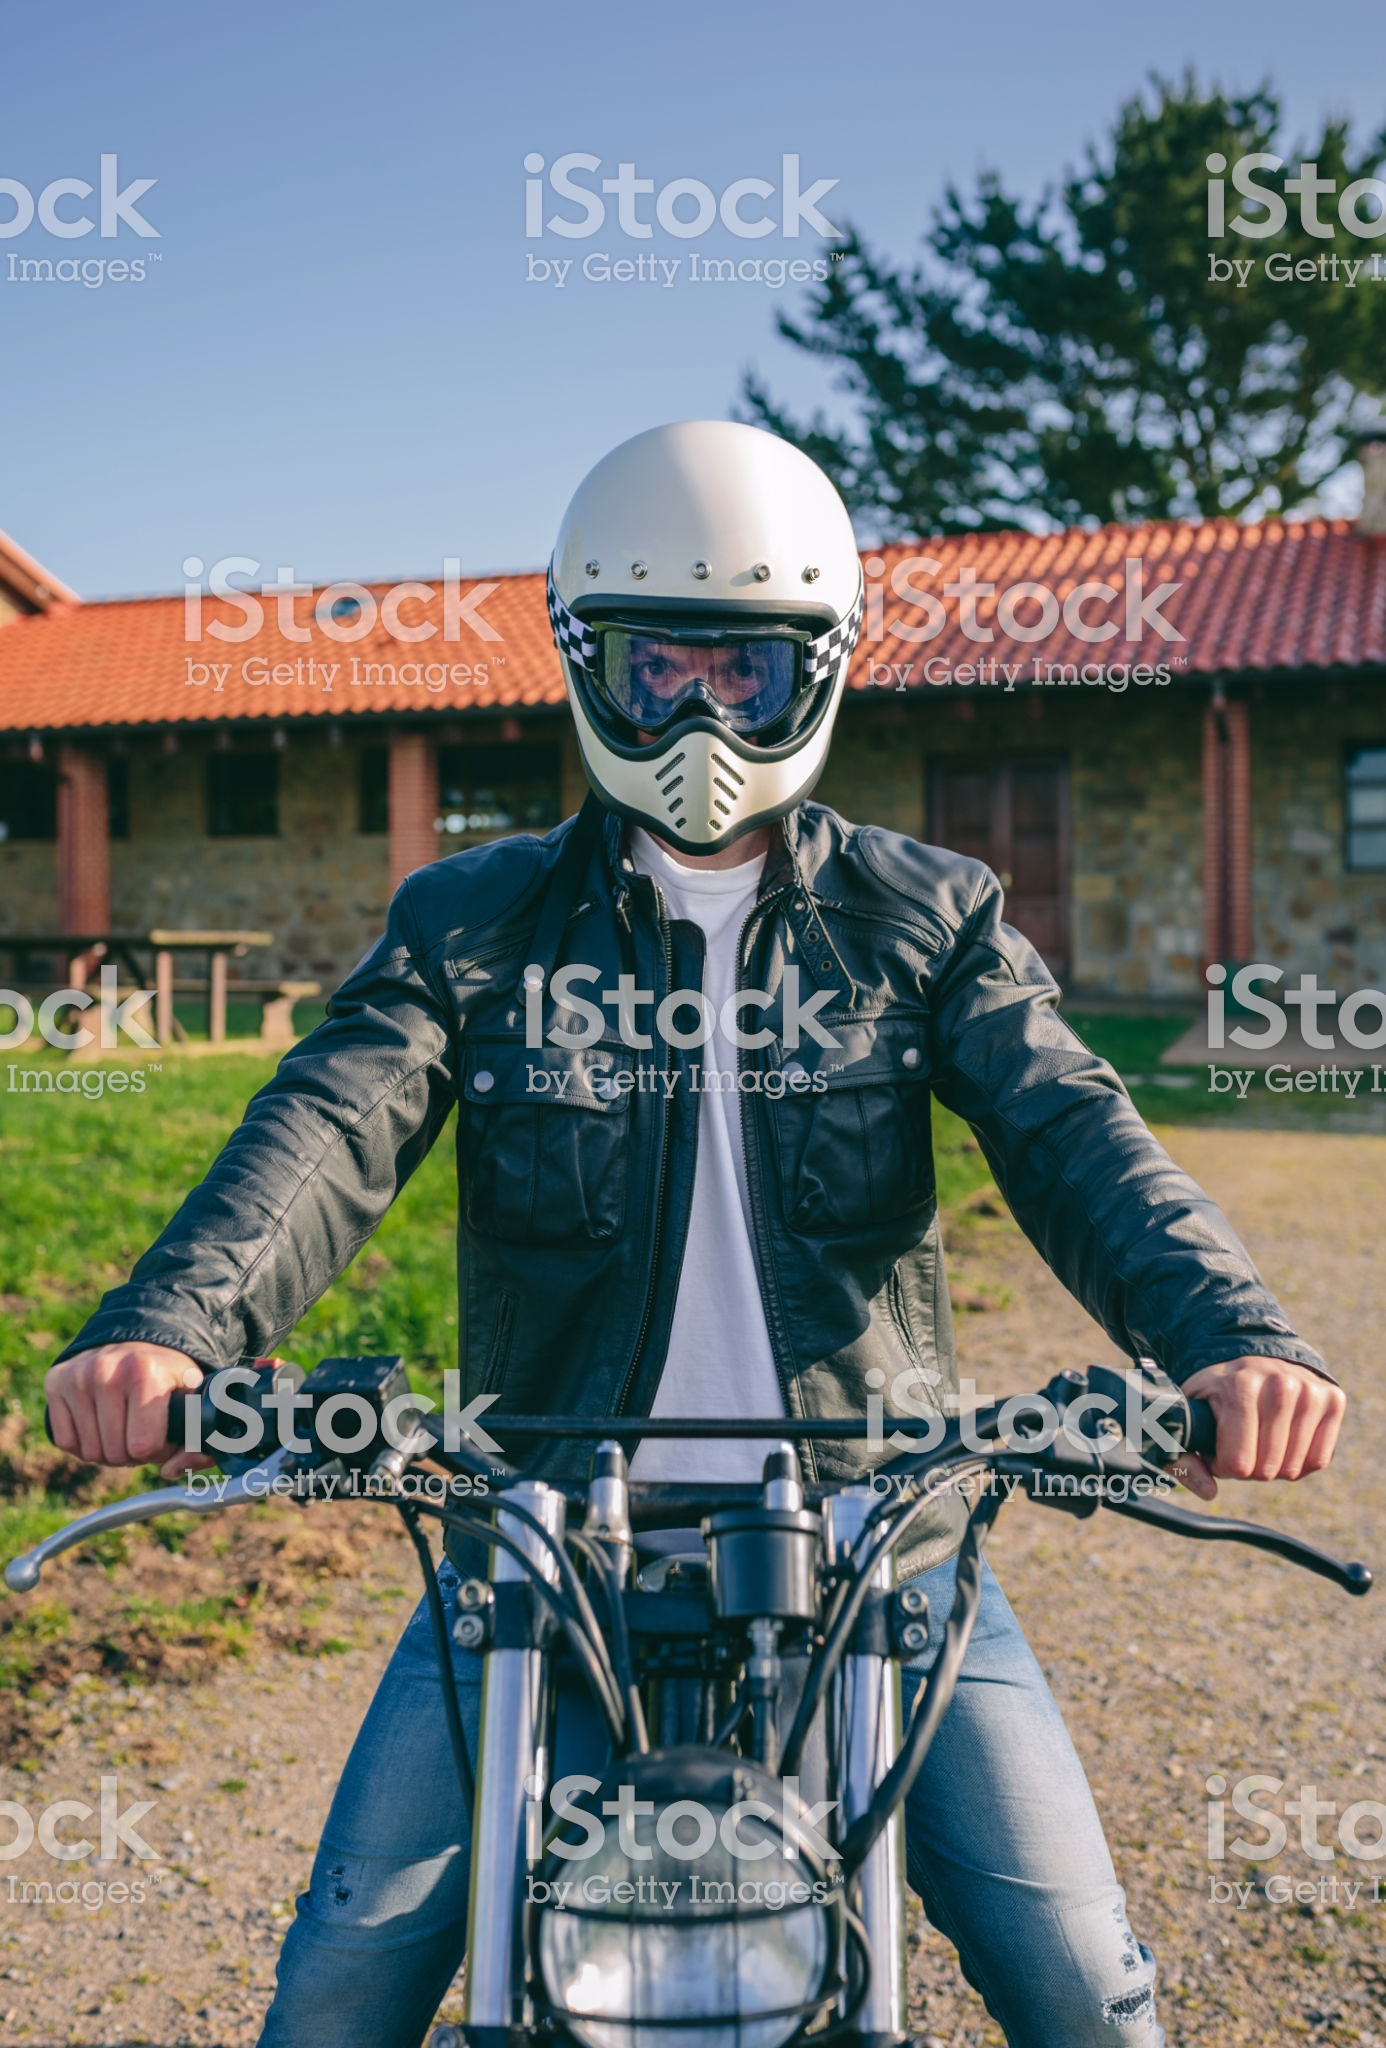helmet: (527, 419, 848, 841)
